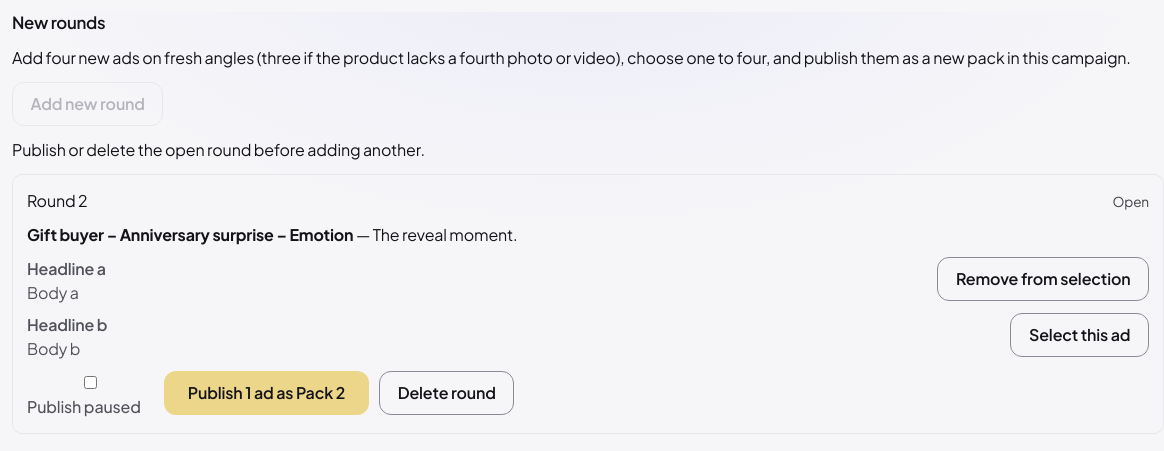
it: CreativeRoundsPanel › publishes the selected ads as a pack, paused when asked
Step 1. Click the checkbox labelled "Publish paused" → (90, 382), box [27, 376, 154, 389]
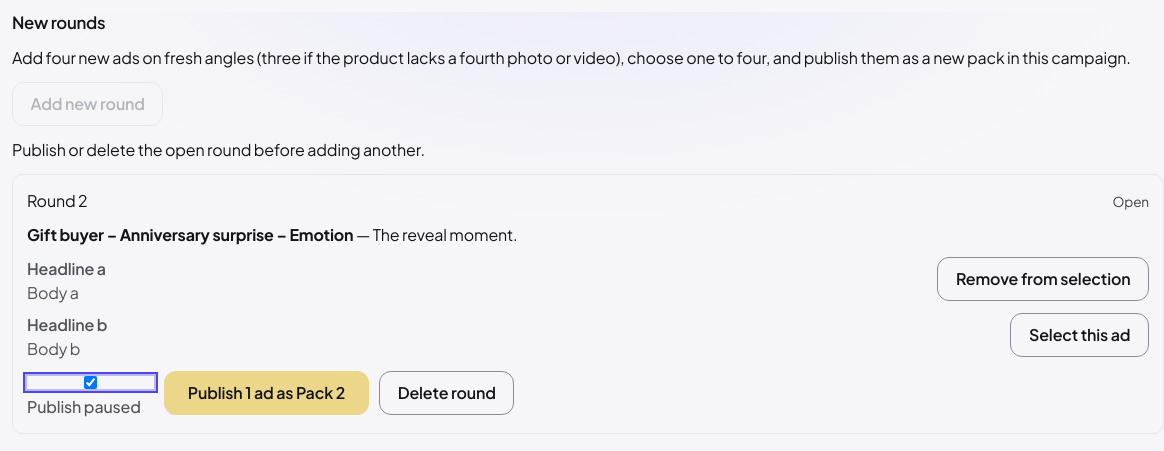
Step 2. Click the button "Publish 1 ad as Pack 2" → (266, 393), box [164, 371, 369, 415]
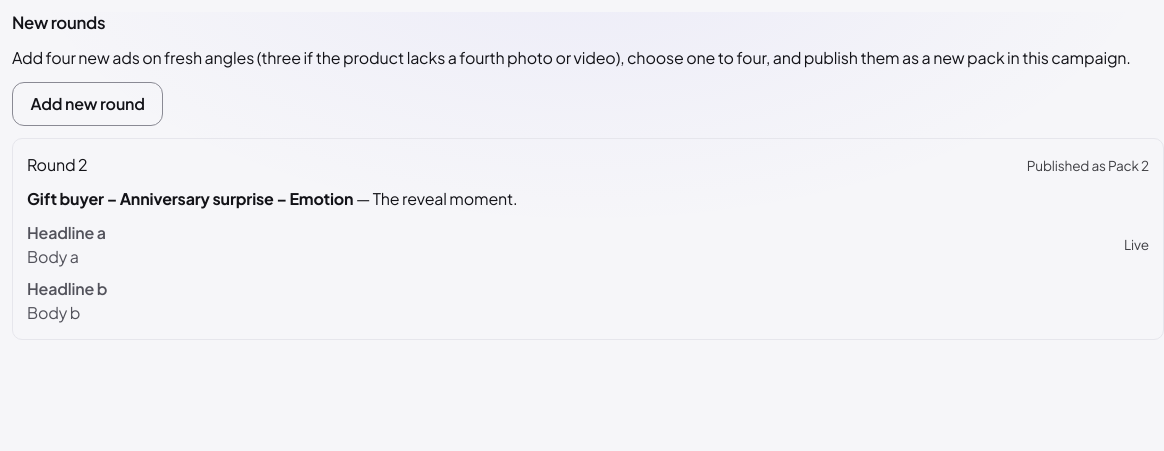
Expected: the text "Published as Pack 2" is shown, [1027, 156, 1149, 176]
Expected: the text "Live" is shown, [1124, 235, 1149, 255]
